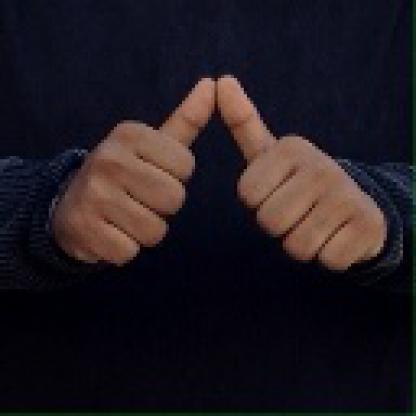A: (61, 68, 382, 285)
